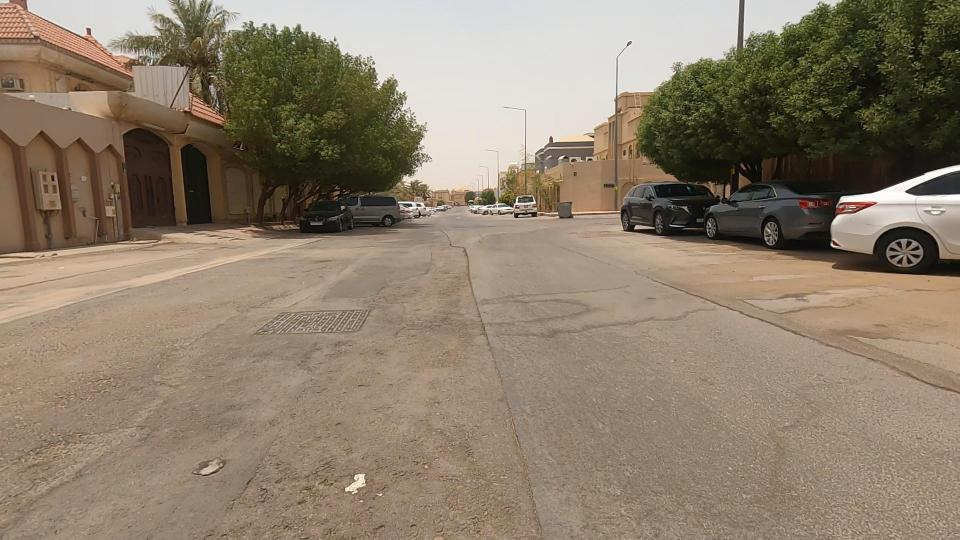CONSTRUCTION_ROAD: (386, 177, 545, 380)
